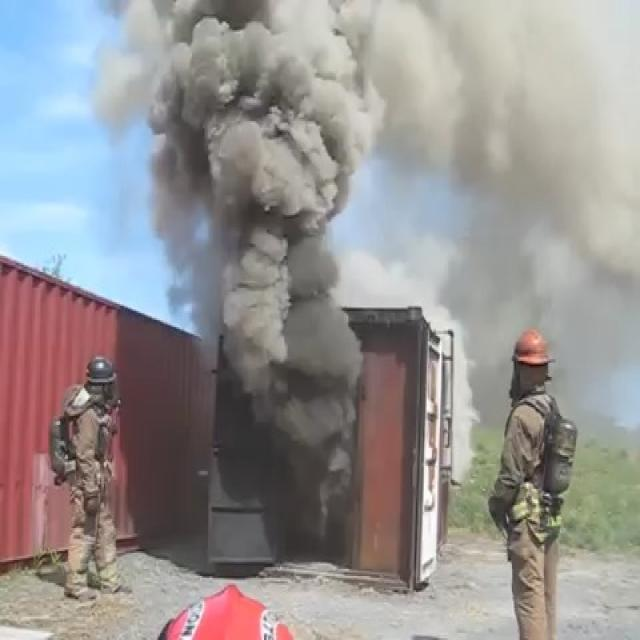Smoke: (142, 16, 366, 561)
